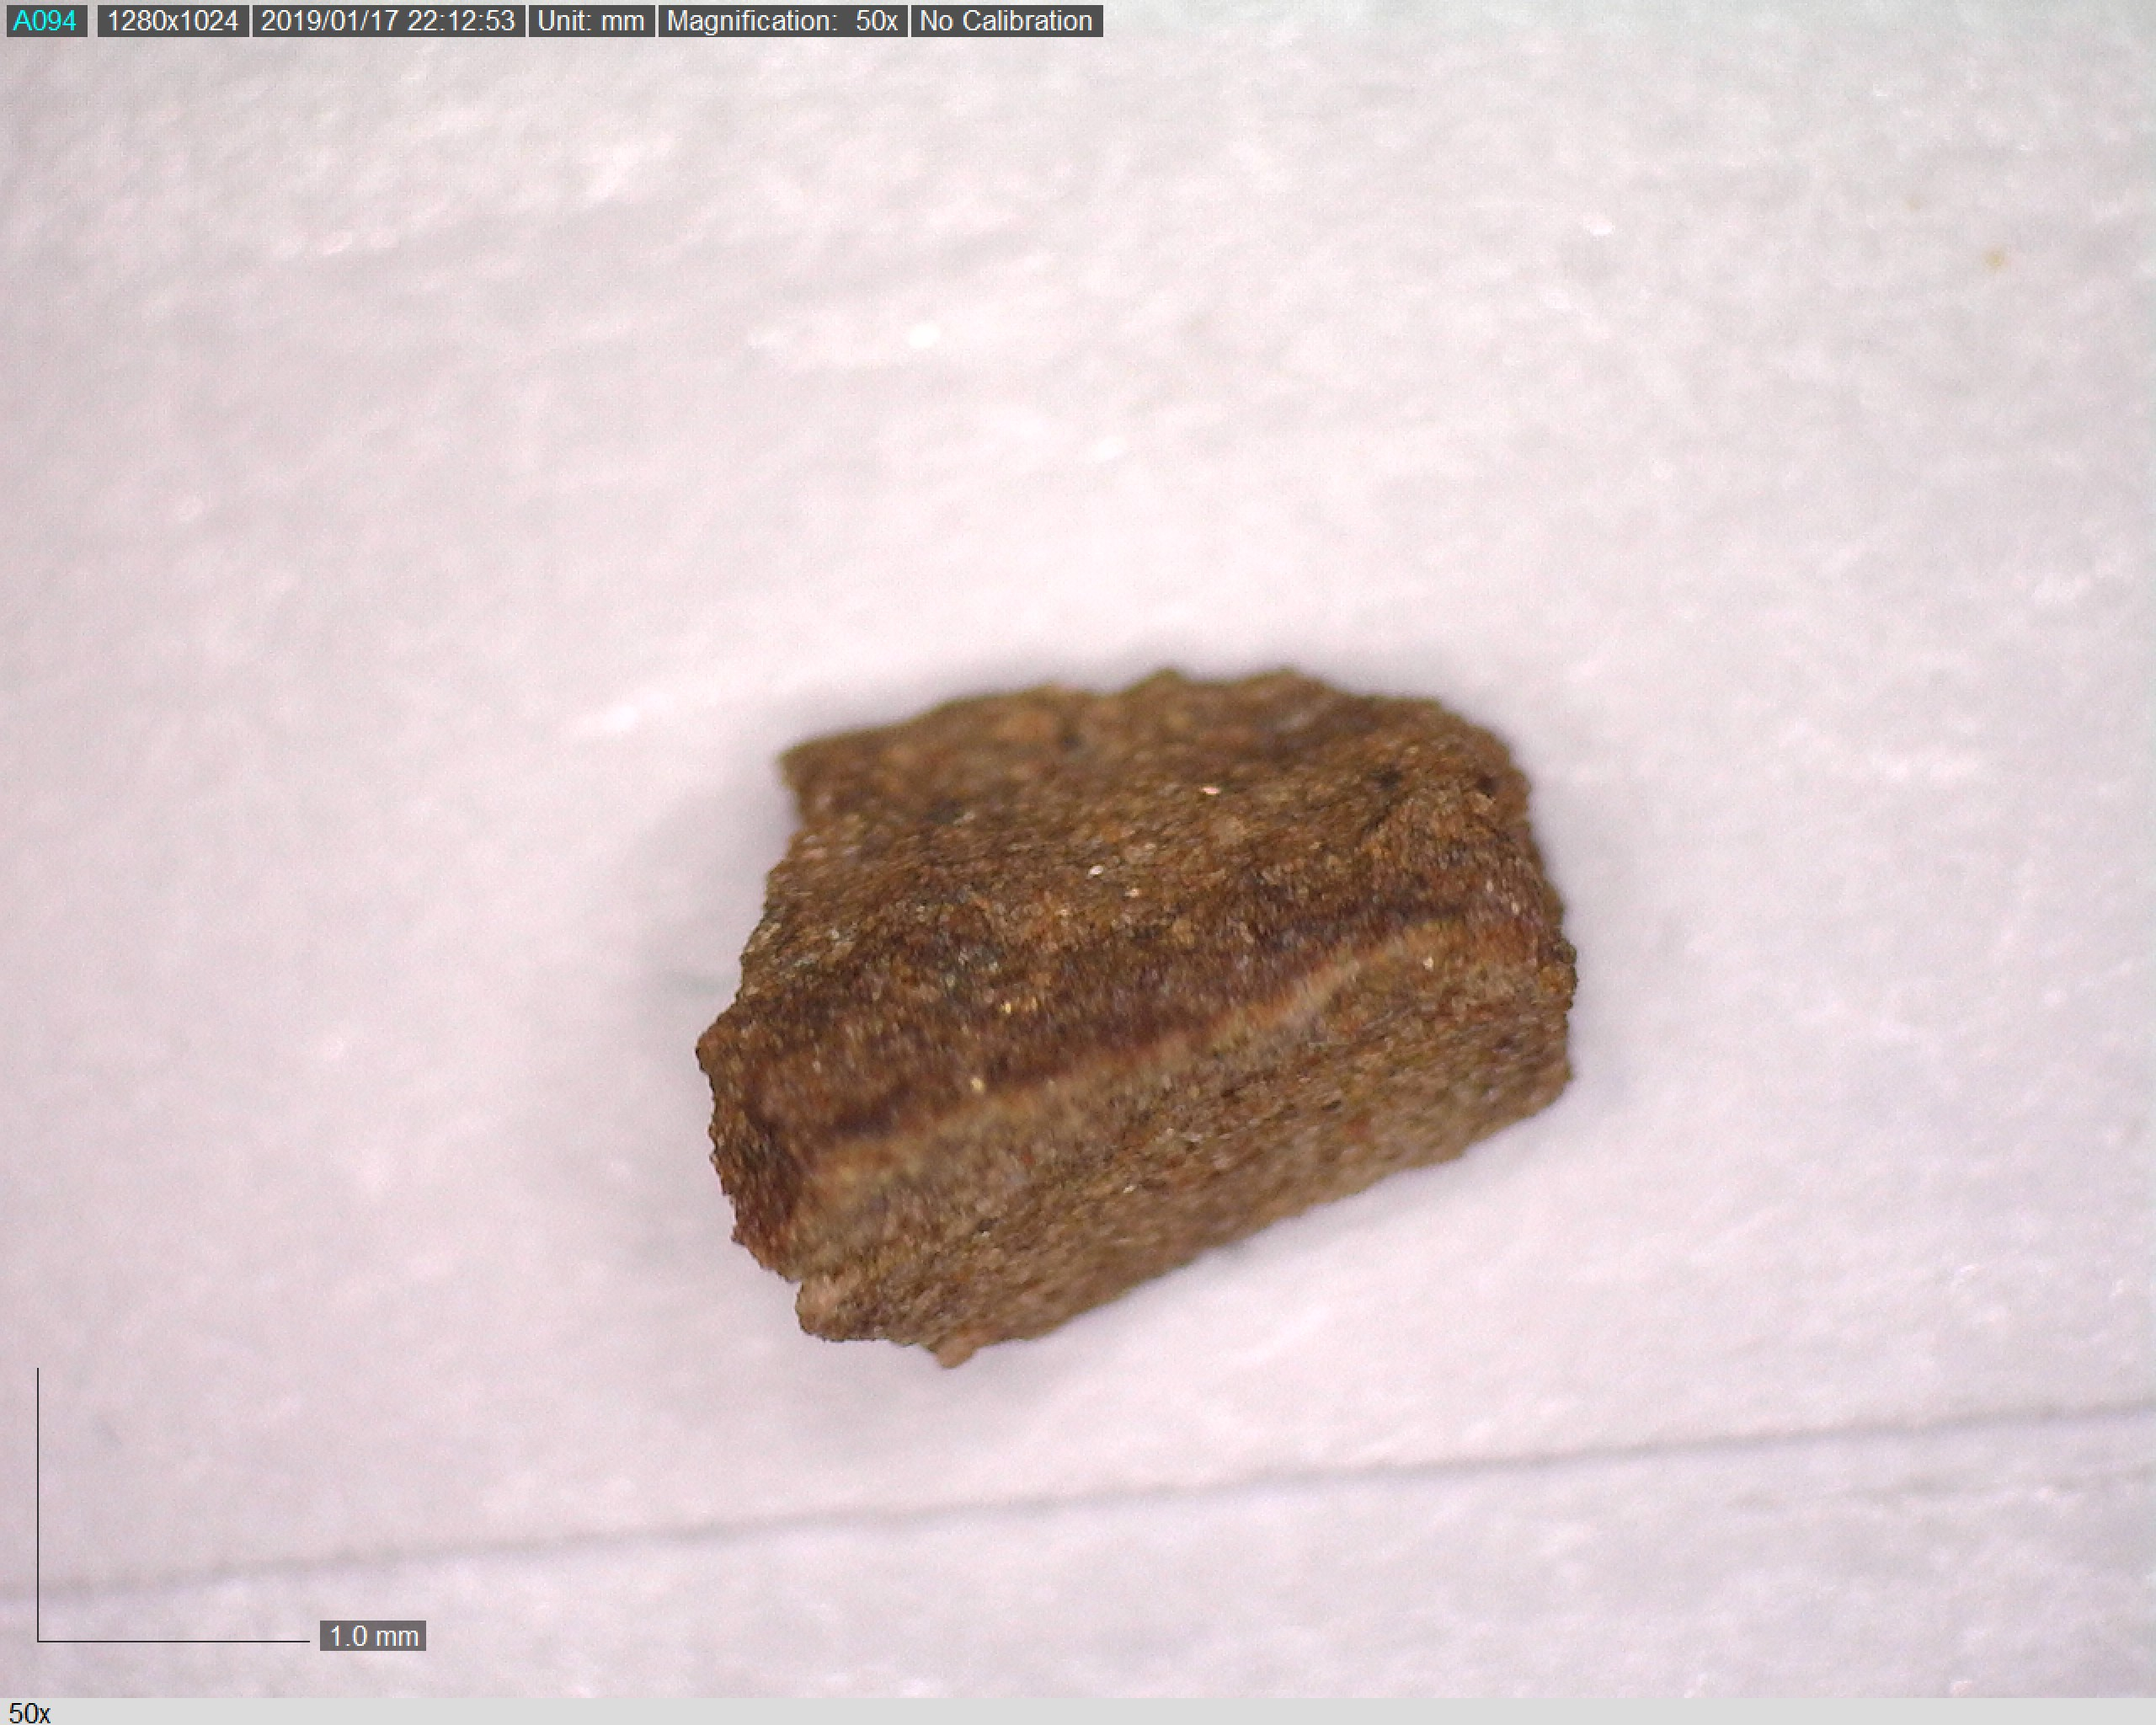Sandstone: (692, 644, 1605, 1382)
